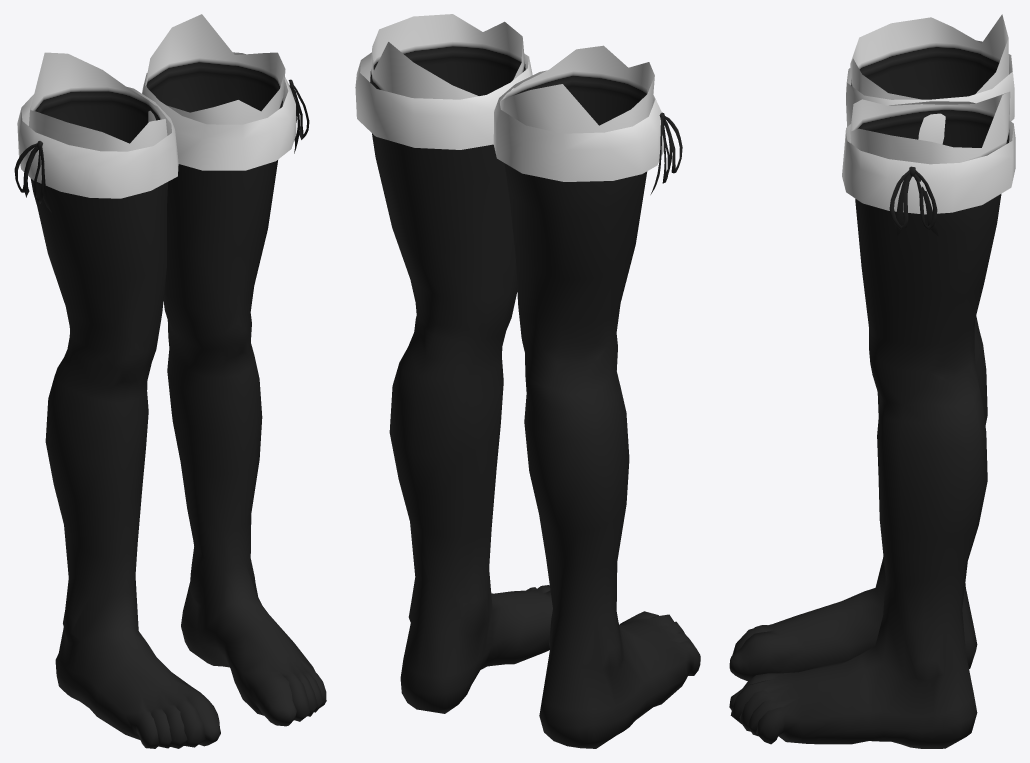
File: socks3.fbx
3 renders of one model, left to right at view 1: azimuth 30°, elevation 25°; view 2: azimuth 150°, elevation 25°; view 3: azimuth 270°, elevation 25°, orthographic. The views are drawn at different scales.
Visible parts, largest first — view 1: カスタム少女_mesh; view 2: カスタム少女_mesh; view 3: カスタム少女_mesh.
Part boxes in pixels (box(x1,y1,x2,y2)): カスタム少女_mesh: box(14, 14, 326, 748); カスタム少女_mesh: box(355, 14, 700, 748); カスタム少女_mesh: box(729, 14, 1015, 748).
Size of the model in its own units: 34.57 by 73.52 by 29.11.
2 materials, 2 textured.
